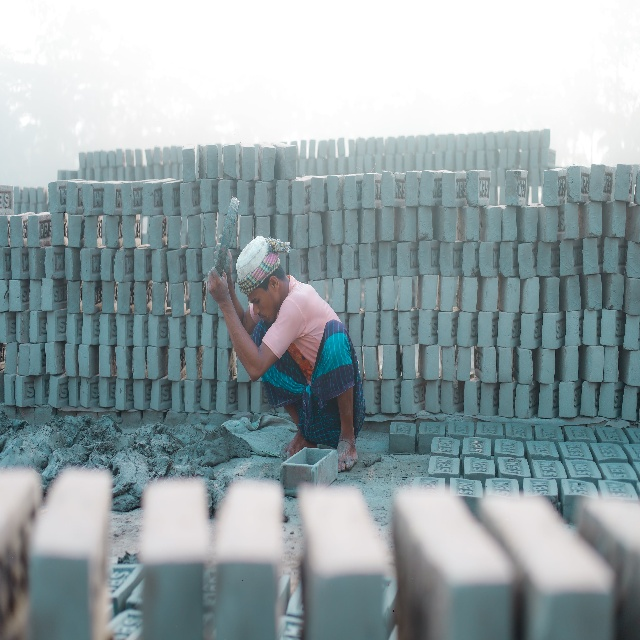Sin_guantes: (213, 234, 232, 281), (206, 266, 229, 304)
